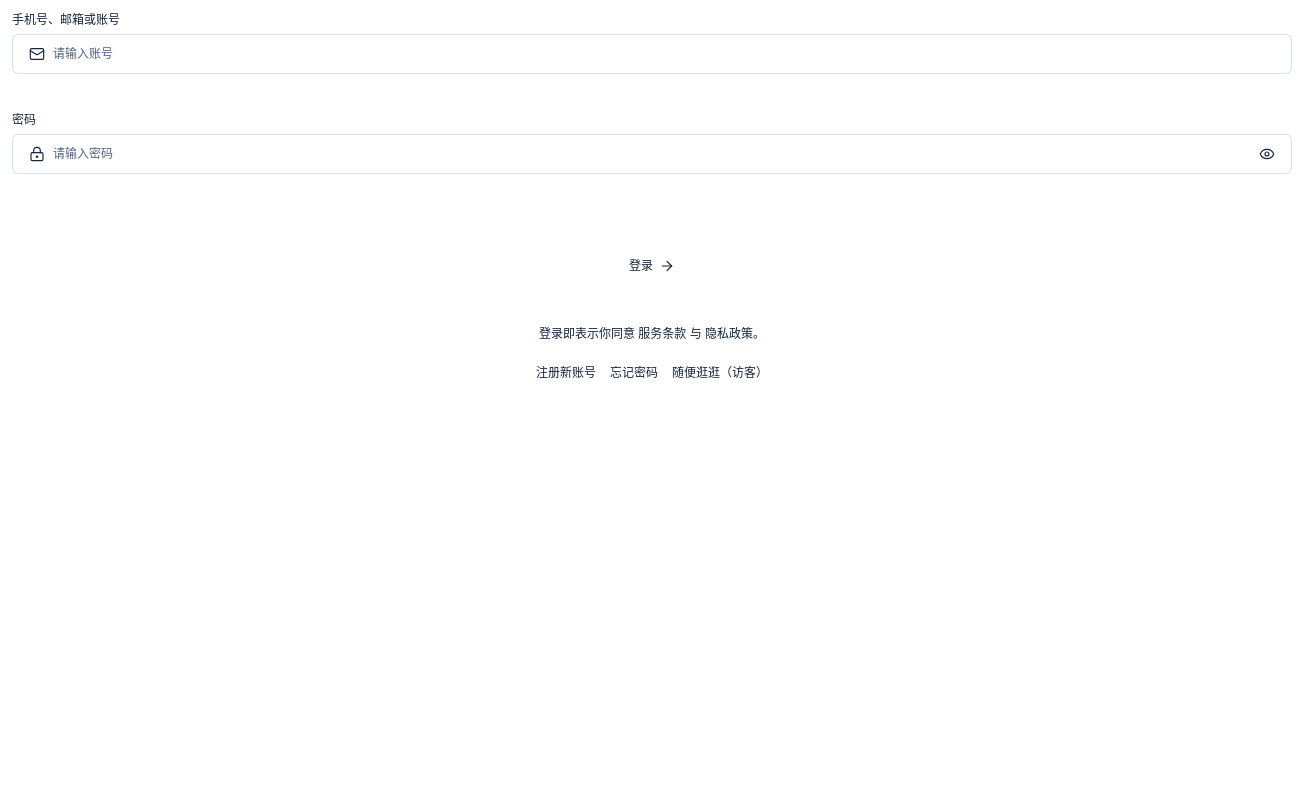
Test: AuthForm › 手机号型注册显示验证码输入，空验证码提交报错
This screenshot has width=1304, height=812.
Click the button "注册新账号" at (566, 373), box [536,356,596,389]
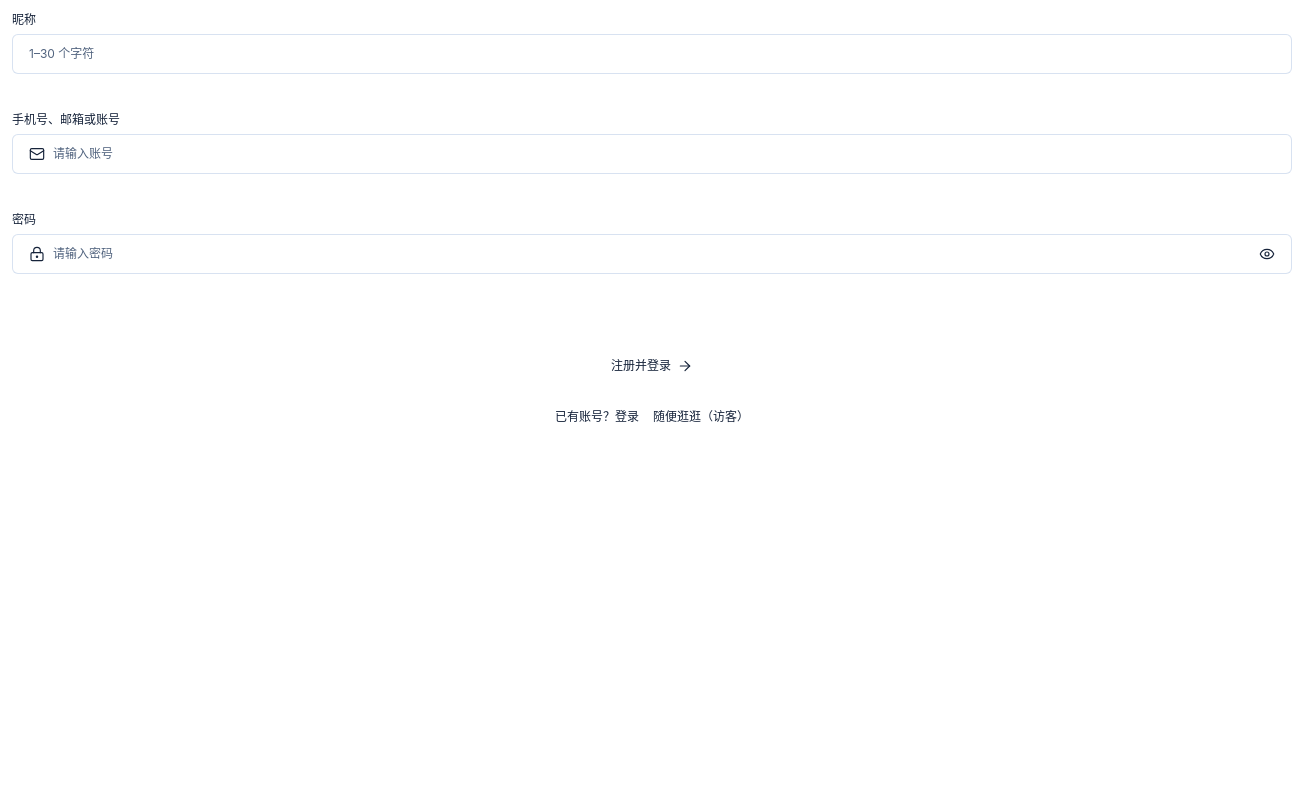
Type "13800138000" into the field labelled "手机号、邮箱或账号" at (664, 154), box [53,145,1275,163]
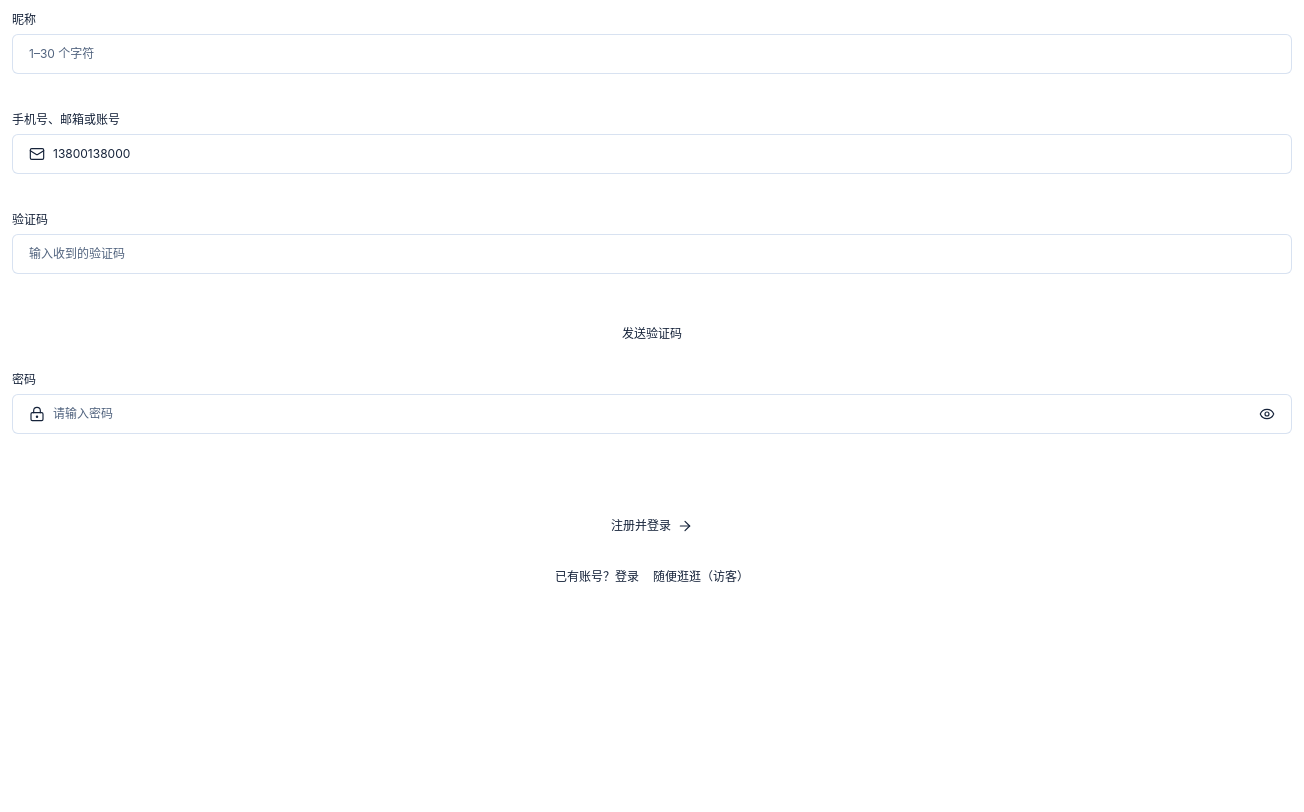
Type "小鹿" into the field labelled "昵称" at (652, 54), box [29,45,1275,63]
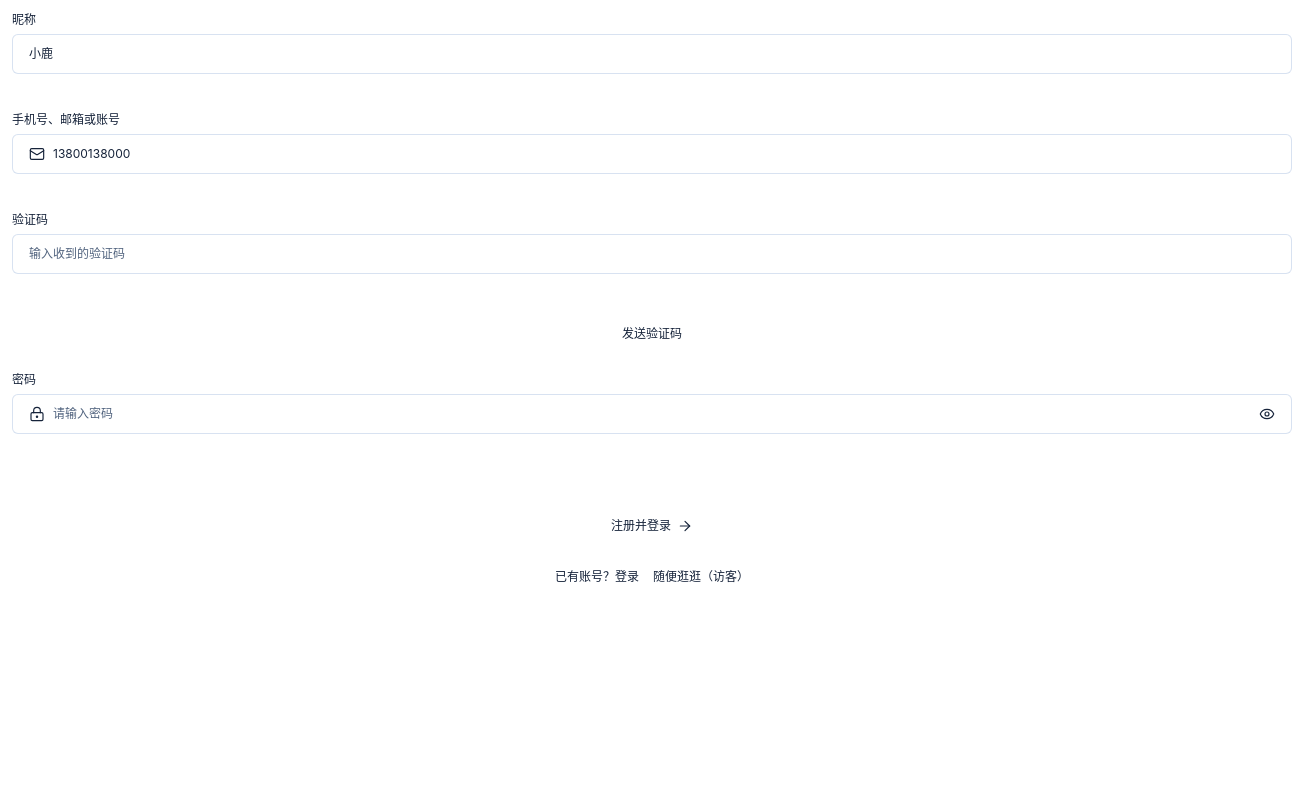
Type "pass1234" into the password field labelled "密码" at (652, 414), box [53,405,1251,423]
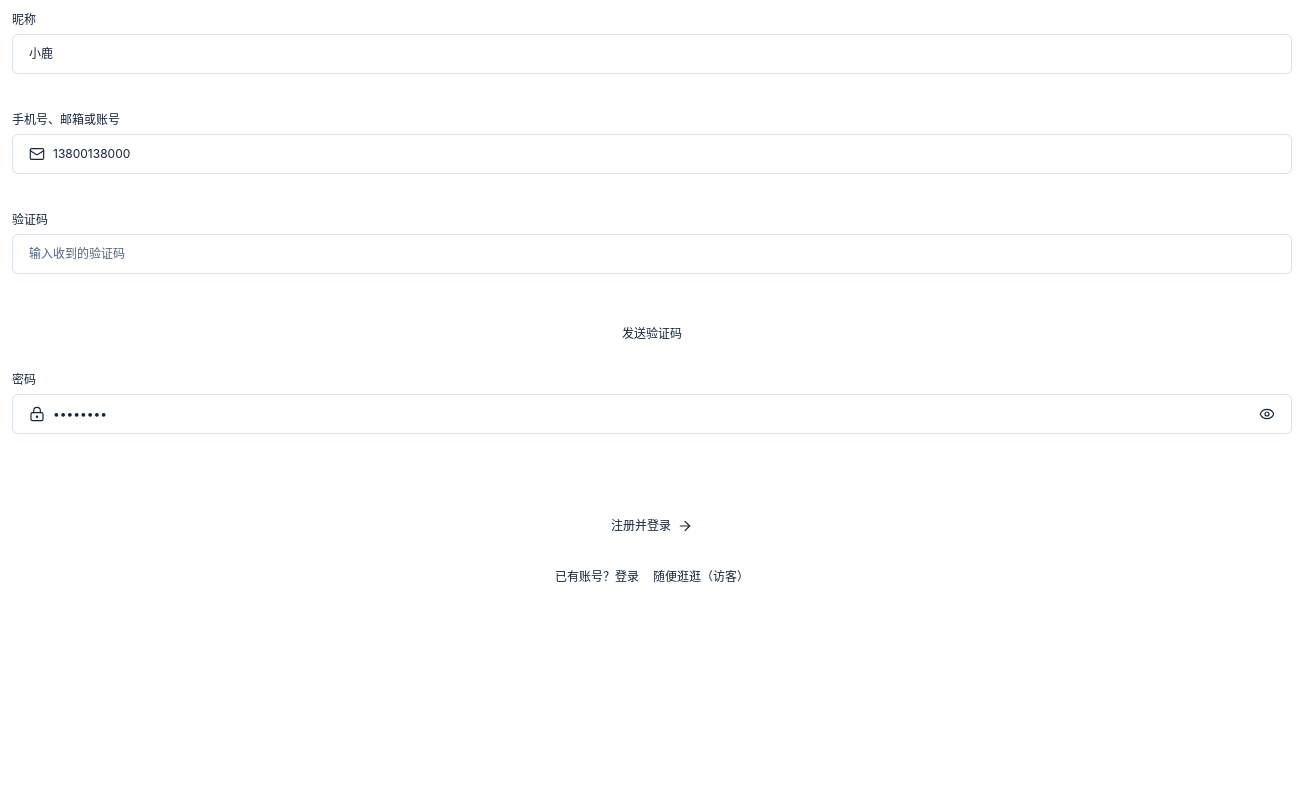
Expected: the field labelled "验证码" is shown, [29,245,1275,263]
Click the button "注册并登录" at (652, 526), box [12,504,1292,548]
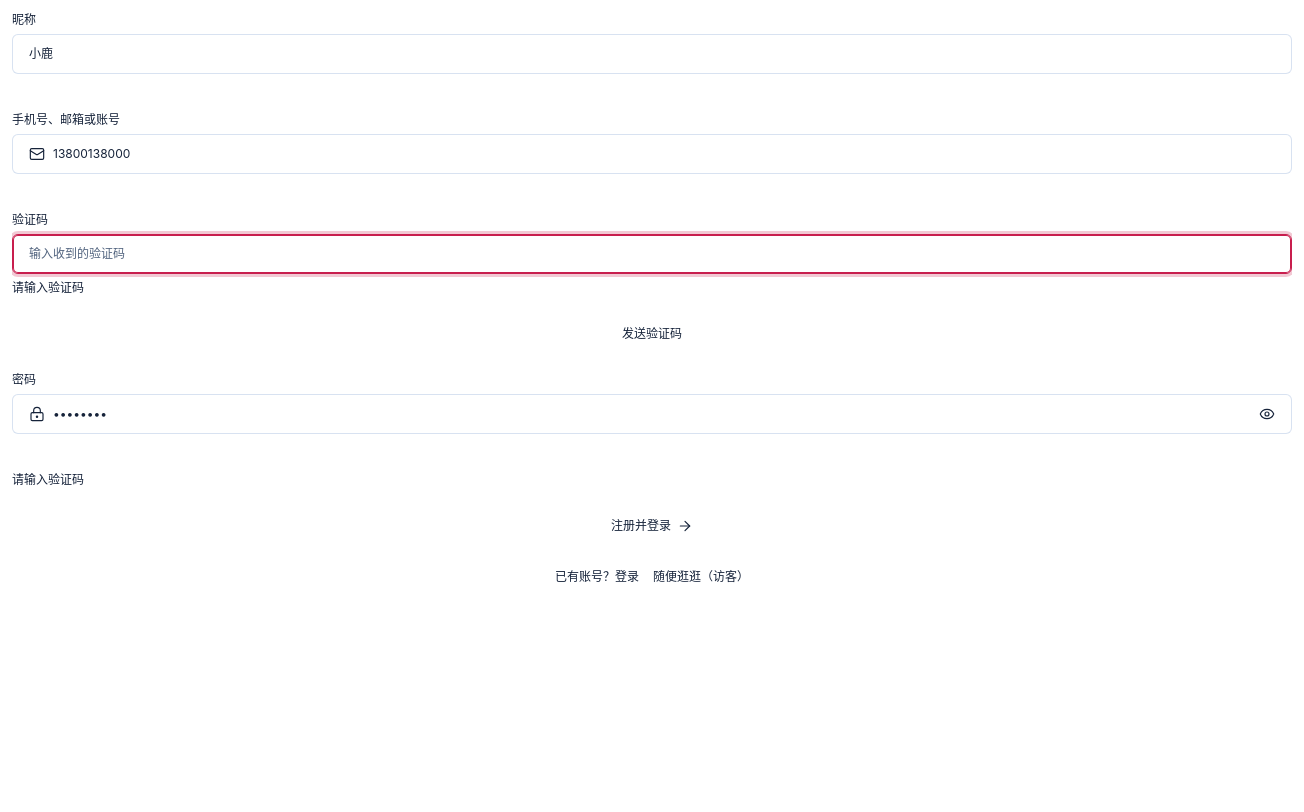
Expected: the 1st text "请输入验证码" is shown, [12,280,84,295]
